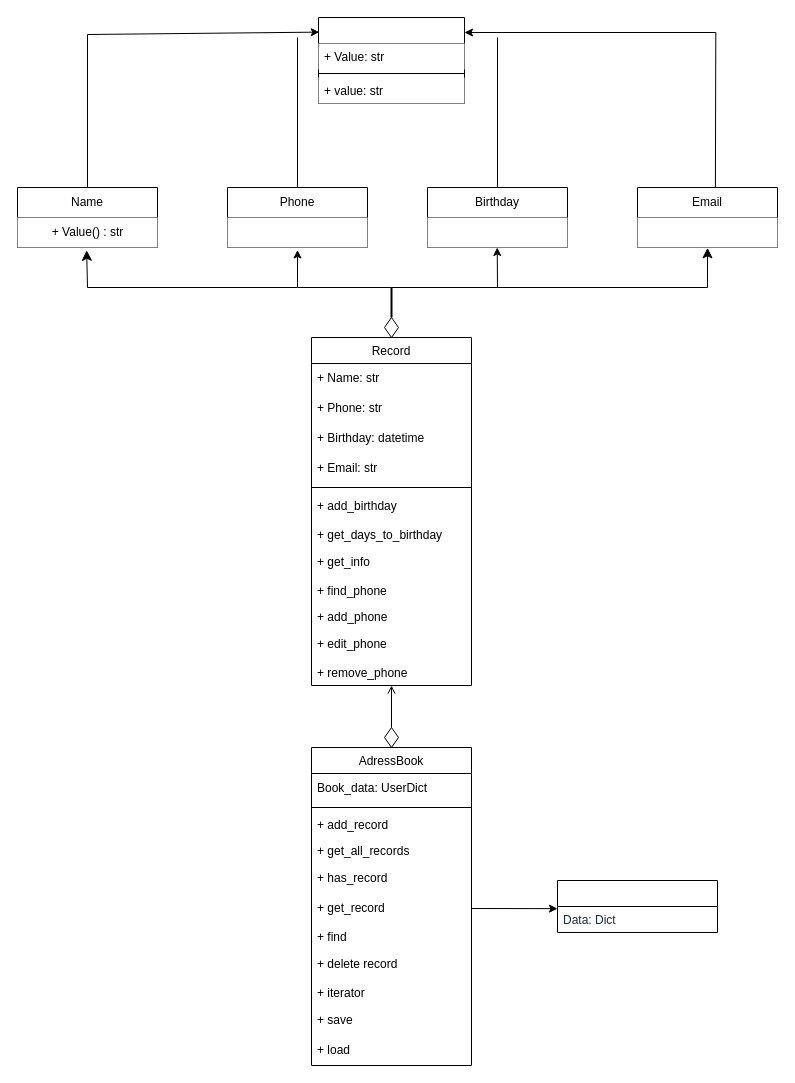
Some shapes in this 795 by 1083 pixel diagram are drawn without their labels. Each missing label, with the box of its shape:
+ days_to_birthday(): (427, 217, 567, 247)
+ validate_email(): (637, 217, 777, 247)
+ validate_phone(): (227, 217, 367, 247)
Field: (318, 16, 464, 104)
UserDict: (556, 880, 718, 932)
